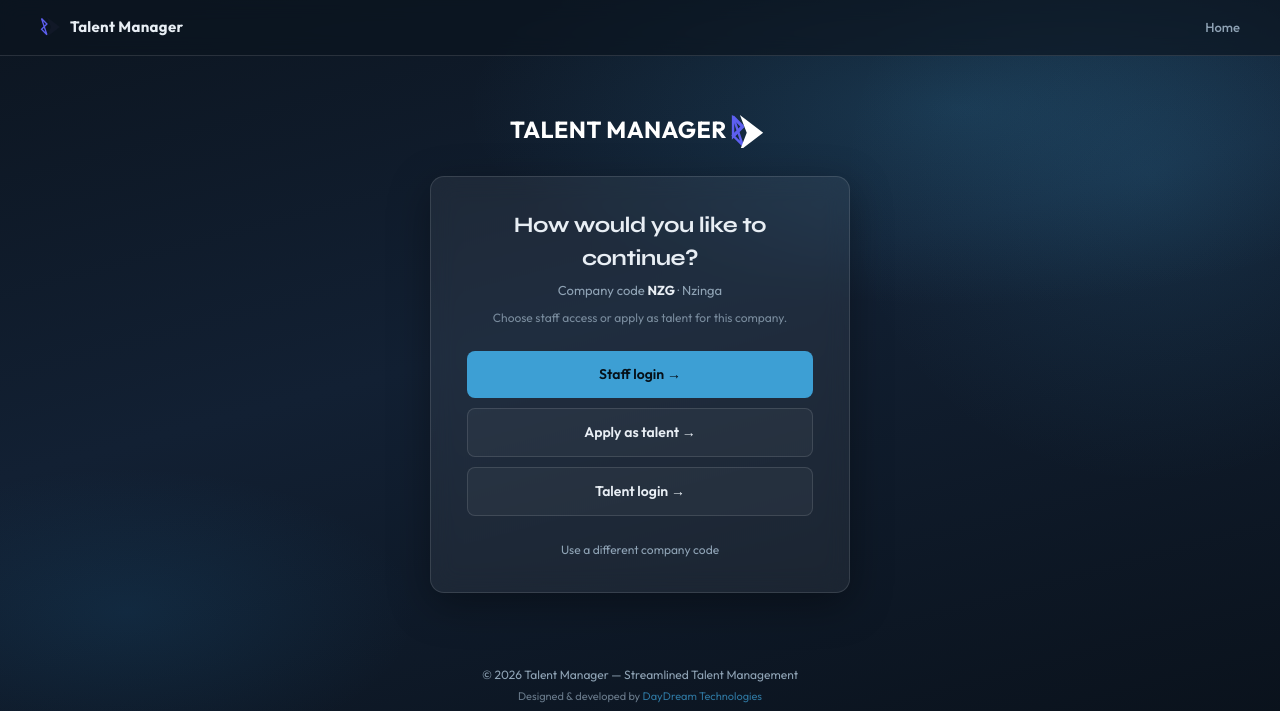
Scenario: CompanyCodePage › does not send users back to code entry after a stored code
Click the button "Staff login →": (640, 374) [467,351,813,398]
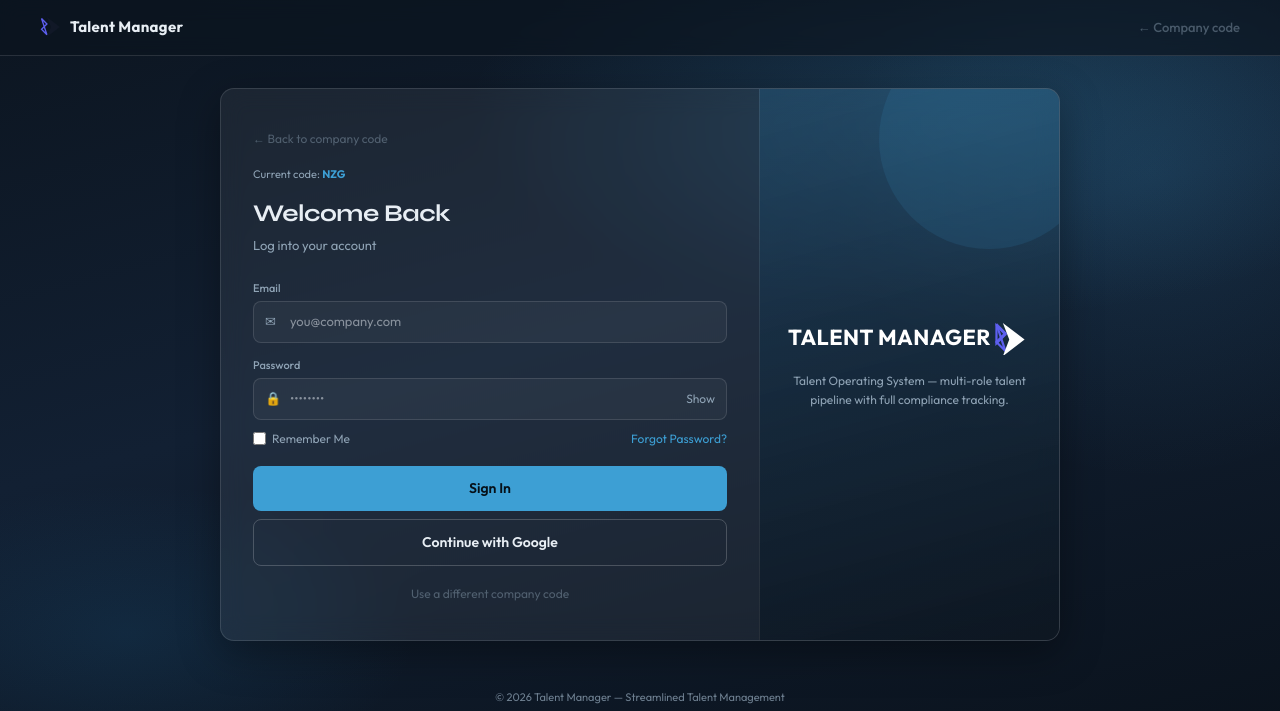
expect the text "Welcome Back" is shown: met, box [253,199,450,228]
